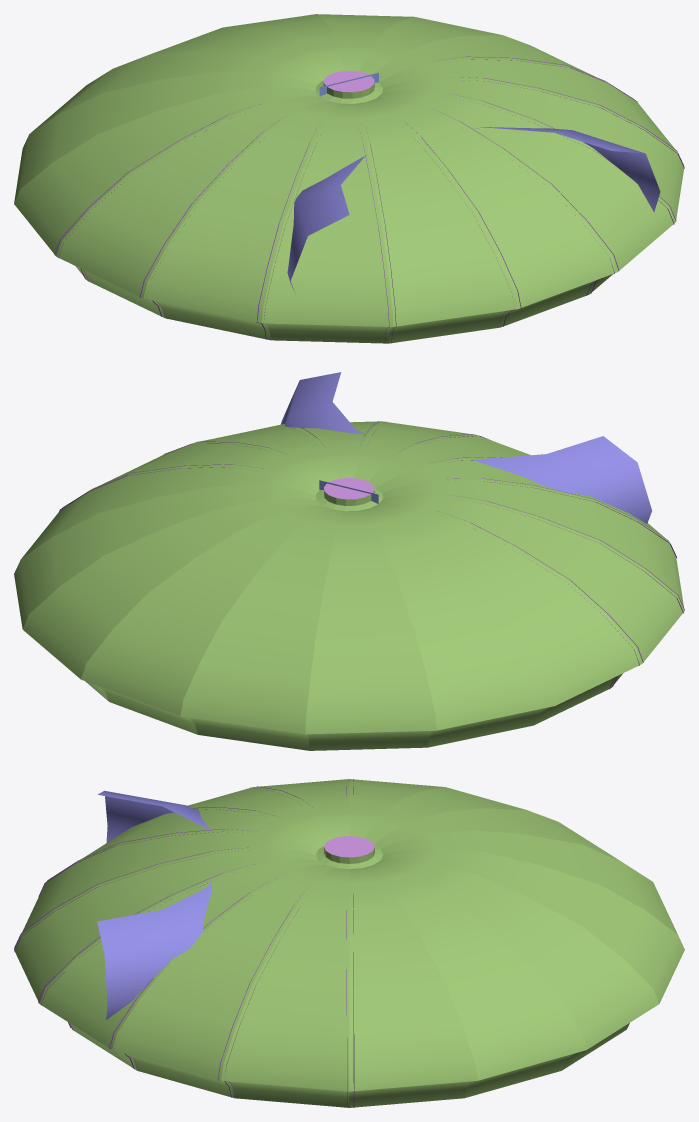
Rendered from highcharity_sky01.fbx.
The picture shows the model from 3 angles, top to bottom: view 1: azimuth 30°, elevation 25°; view 2: azimuth 150°, elevation 25°; view 3: azimuth 270°, elevation 25°; orthographic projection.
Parts seen in each view (by area): view 1: L6 sky 10, L6 sky 70, L6 sky 20; view 2: L6 sky 10, L6 sky 70, L6 sky 20; view 3: L6 sky 10, L6 sky 70, L6 sky 20.
Boxes of the visible parts, box(x1,y1,x2,y2) form: L6 sky 10: box(14, 14, 684, 343); L6 sky 70: box(287, 127, 660, 294); L6 sky 20: box(54, 56, 684, 343); L6 sky 10: box(14, 421, 684, 750); L6 sky 70: box(281, 372, 651, 523); L6 sky 20: box(59, 421, 684, 689); L6 sky 10: box(14, 779, 684, 1107); L6 sky 70: box(97, 790, 212, 1019); L6 sky 20: box(14, 779, 354, 1107).
Bounding box in the file's own units: 1661948 × 370750 × 1661908.
